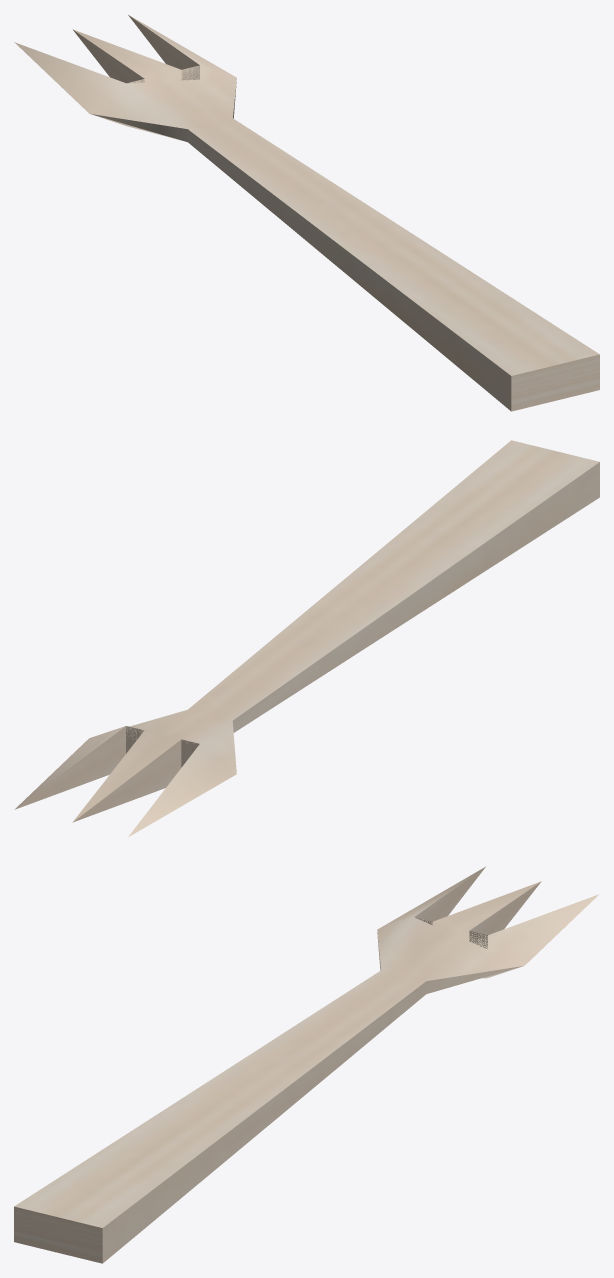
Rendered from Spoon_1.fbx.
3 renders of one model, top to bottom at view 1: azimuth 30°, elevation 25°; view 2: azimuth 150°, elevation 25°; view 3: azimuth 330°, elevation 25°, orthographic.
Visible parts, largest first — view 1: pCube558; view 2: pCube558; view 3: pCube558.
Boxes of the visible parts, <box> form: pCube558: <box>14,15,599,411</box>; pCube558: <box>14,440,599,837</box>; pCube558: <box>14,866,599,1263</box>.
Size of the model in its own units: 0.0434 by 0.012 by 0.247.
